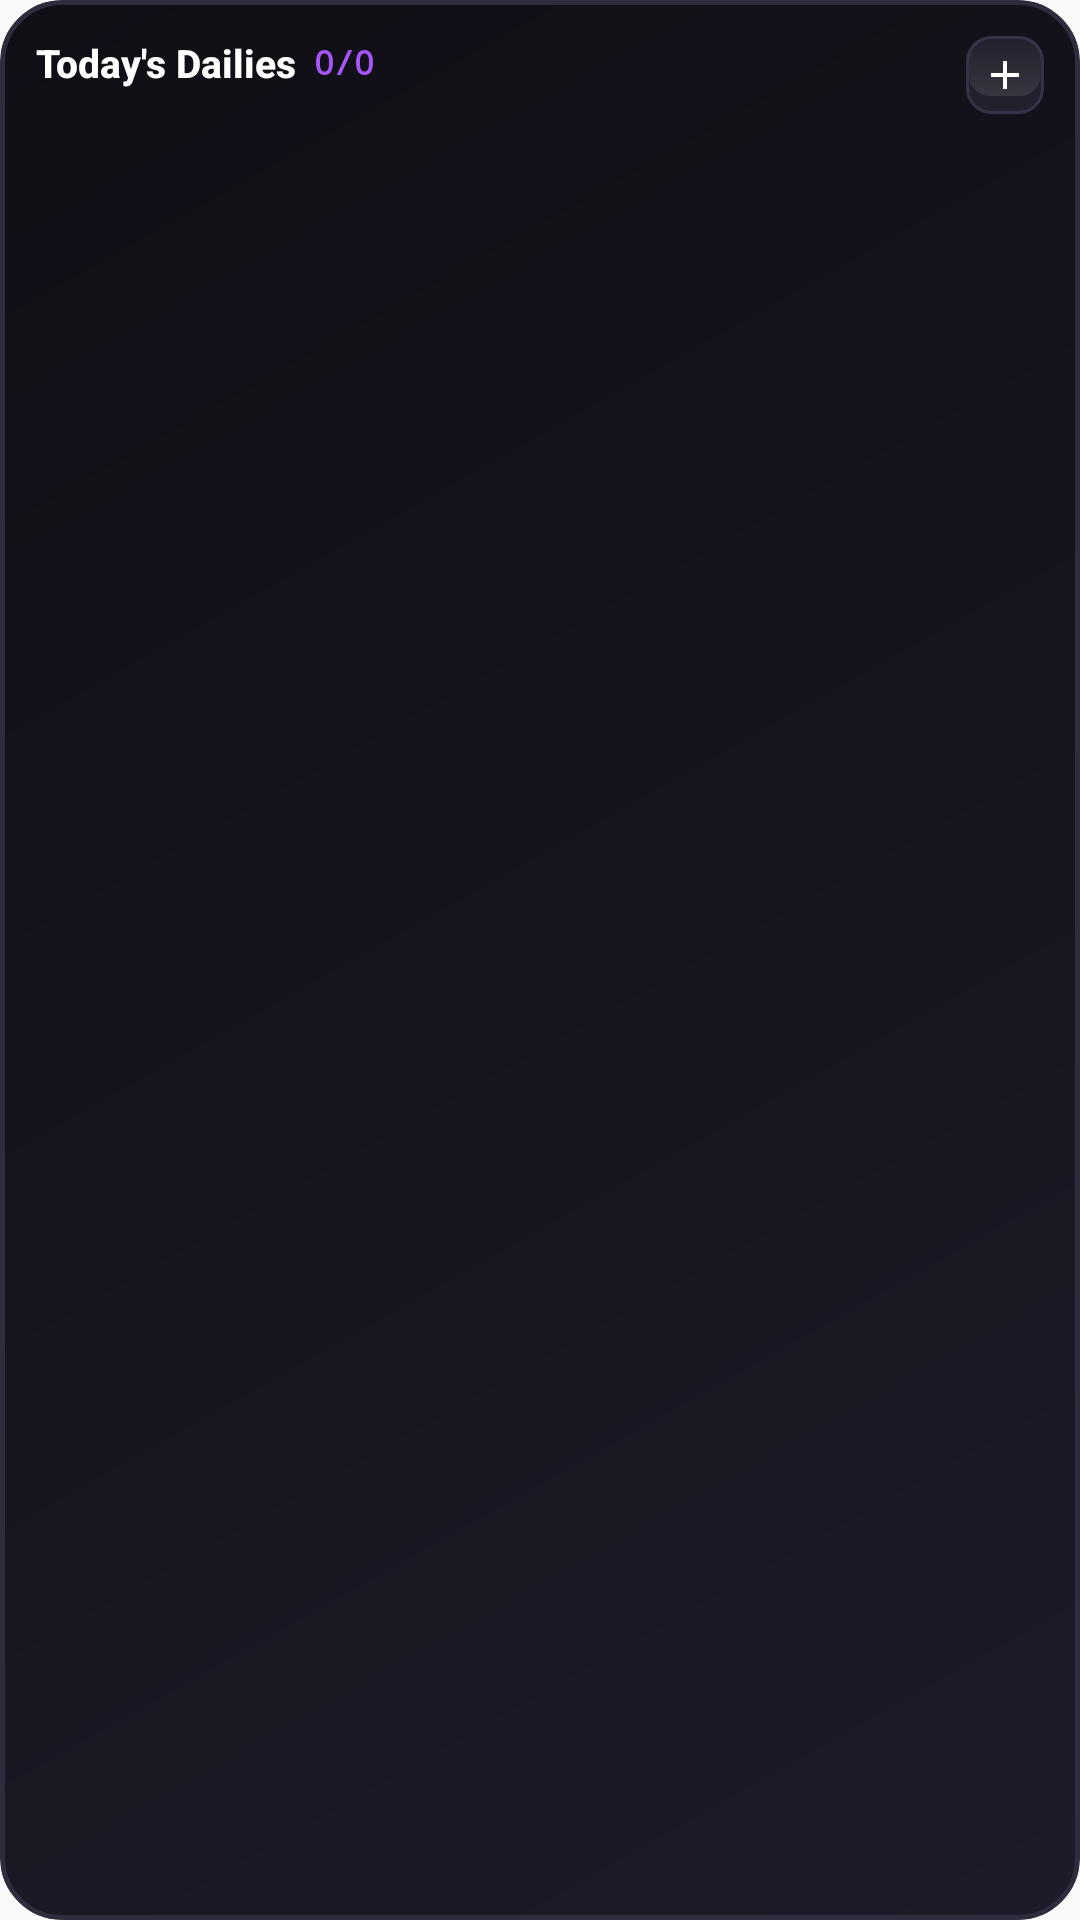

Icons on this 1080w x 1920h Android screen, each with its box as (x1, y1, x2, y2):
Add Daily: (966, 36, 1044, 114)
